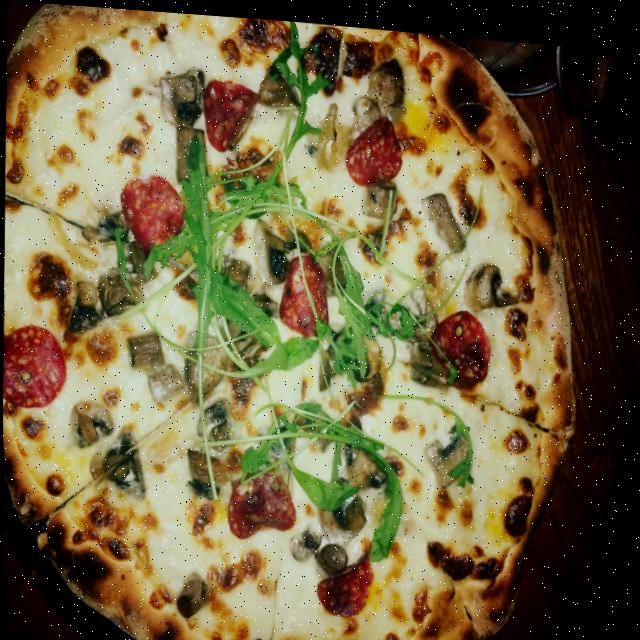mushrooms: (93, 258, 152, 333), (254, 215, 315, 284), (183, 322, 233, 403), (102, 417, 147, 504), (170, 115, 219, 193), (66, 266, 111, 348), (320, 465, 371, 537), (424, 173, 463, 252), (363, 43, 407, 112), (113, 315, 167, 371), (341, 428, 393, 486), (255, 212, 300, 279), (285, 475, 321, 558), (68, 387, 114, 450), (353, 167, 405, 221), (465, 253, 516, 306), (157, 63, 200, 123), (141, 356, 185, 413), (172, 562, 211, 616), (431, 425, 466, 472)
pepperoni: (116, 170, 184, 251), (224, 460, 292, 539), (2, 325, 62, 410), (311, 531, 370, 616), (429, 301, 488, 384), (342, 106, 404, 183), (199, 74, 257, 155), (274, 248, 327, 334)
pizza: (0, 0, 581, 640)
